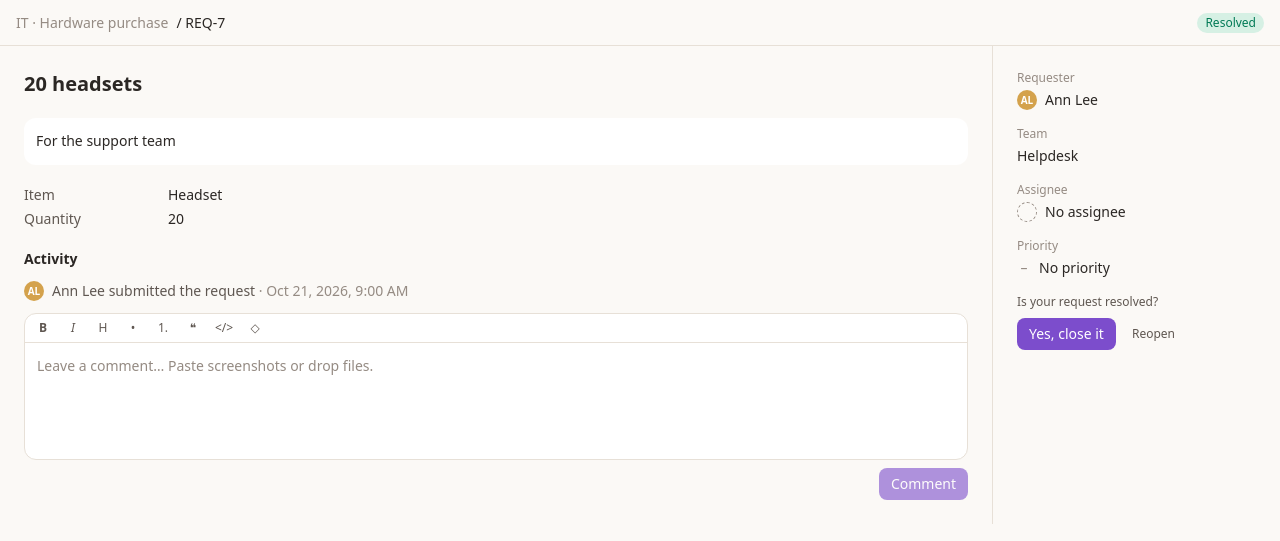
Test: RequestPage › asks the requester to confirm a resolved request
Click the button "Yes, close it" at {"x": 1066, "y": 334}, box left=1017, top=318, right=1116, bottom=350
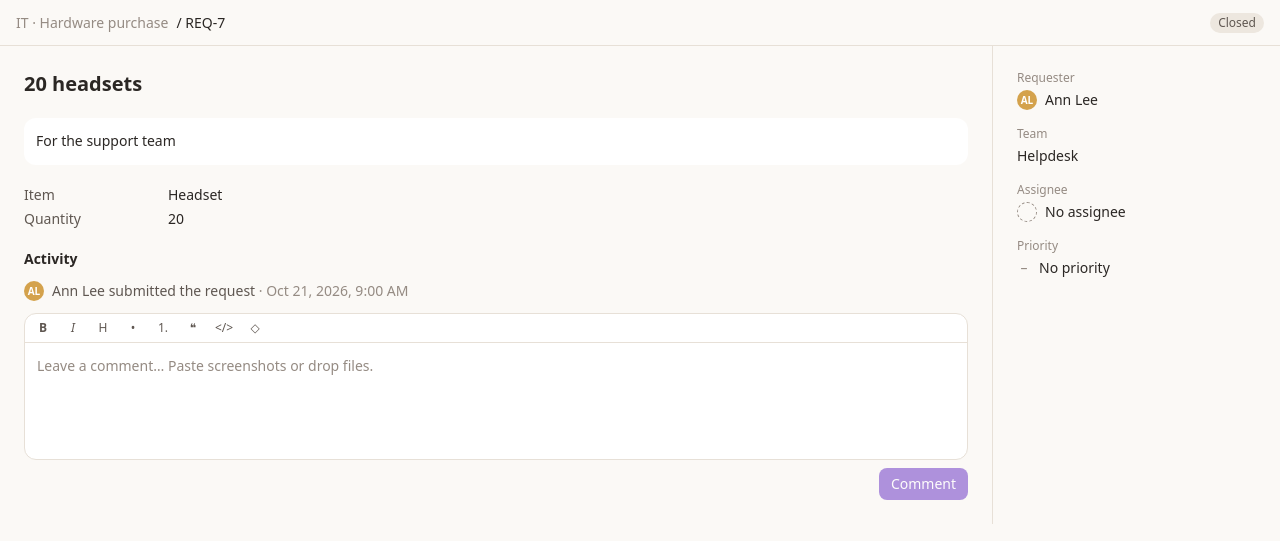
Check: the text "Closed" is shown, box left=1210, top=13, right=1264, bottom=33
